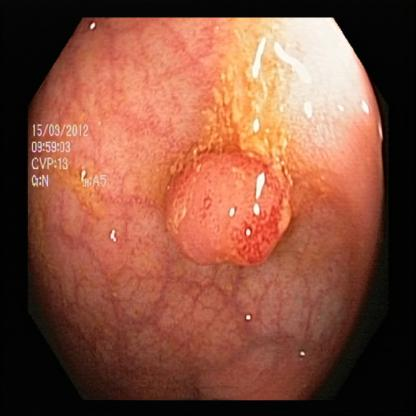Polyps: (158, 134, 302, 276)
